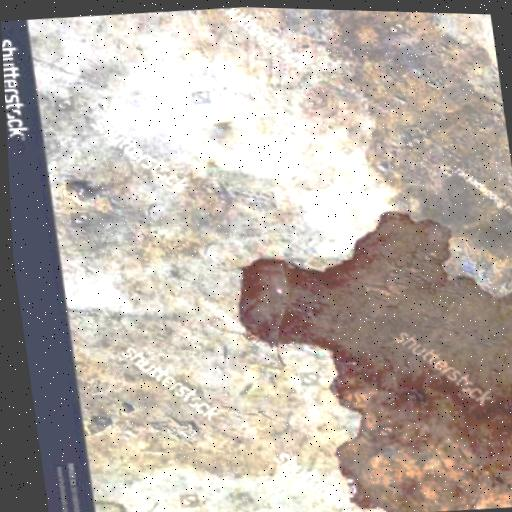corrosion: (213, 172, 512, 512)
